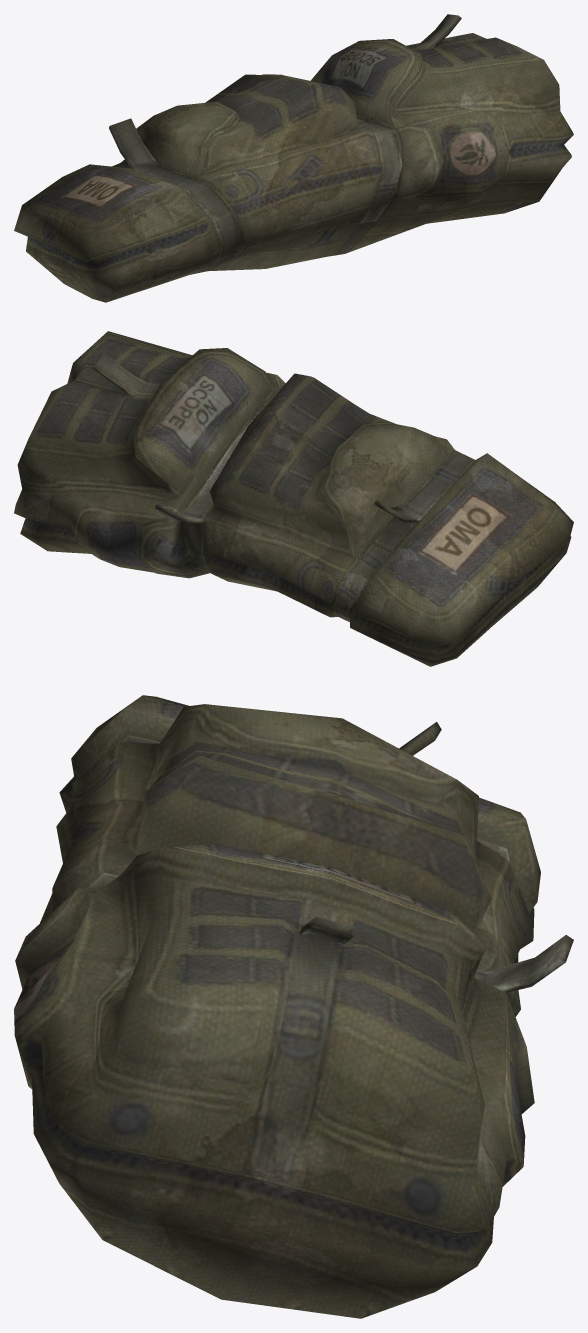
File: weapon_oma_pack_LOD0.obj
3 renders of one model, top to bottom at view 1: azimuth 30°, elevation 25°; view 2: azimuth 150°, elevation 25°; view 3: azimuth 270°, elevation 25°, orthographic. The views are drawn at different scales.
Visible parts, largest first — view 1: mtl_oma_pack; view 2: mtl_oma_pack; view 3: mtl_oma_pack.
Part boxes in pixels (x1=…): mtl_oma_pack: x1=14, y1=14, x2=573, y2=302; mtl_oma_pack: x1=14, y1=331, x2=573, y2=666; mtl_oma_pack: x1=14, y1=695, x2=573, y2=1318.
Size of the model in its own units: 67.8 by 26.59 by 35.47.
1 material, 1 textured.
